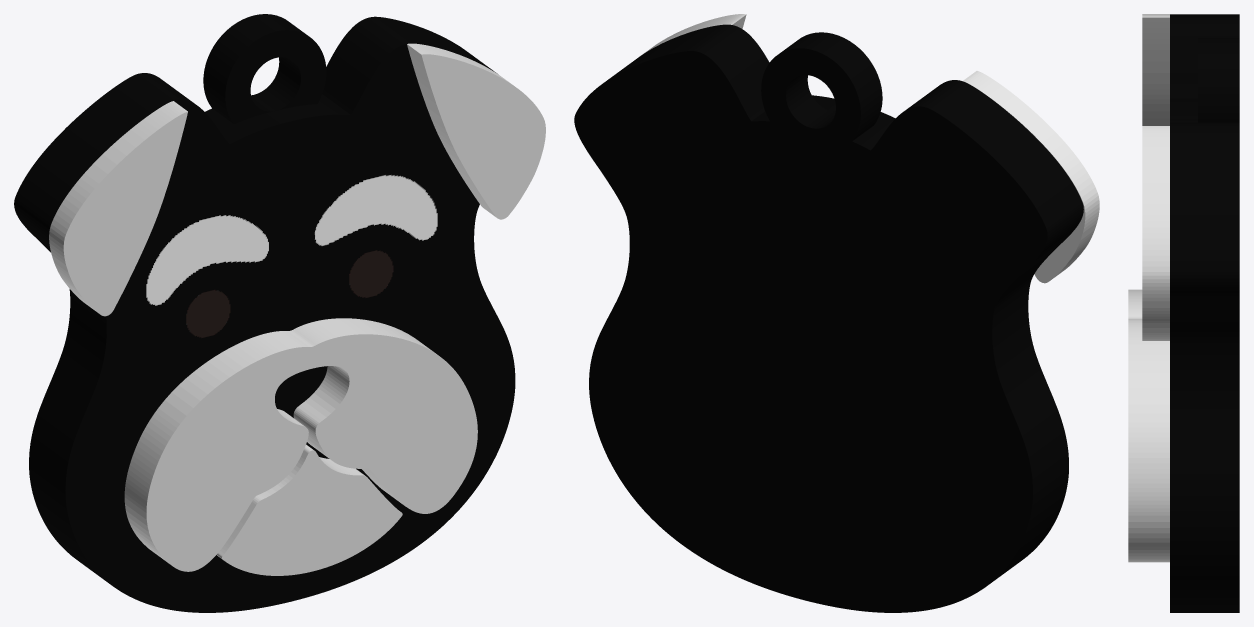
File: shuna_ALL_tx.glb
3 views of the same model, side by side, from view 1: azimuth 30°, elevation 25°; view 2: azimuth 150°, elevation 25°; view 3: azimuth 270°, elevation 25° (orthographic). The views are drawn at different scales.
Parts seen in each view (by area): view 1: face_base, nose, left_ear, mouth, right_ear; view 2: face_base, left_ear; view 3: face_base, nose, right_ear, left_ear.
Part boxes in pixels (x1=…): face_base: x1=14, y1=14, x2=515, y2=612; nose: x1=124, y1=318, x2=477, y2=571; left_ear: x1=49, y1=101, x2=187, y2=316; mouth: x1=216, y1=444, x2=402, y2=575; right_ear: x1=407, y1=43, x2=545, y2=219; face_base: x1=574, y1=24, x2=1083, y2=612; left_ear: x1=962, y1=71, x2=1099, y2=283; face_base: x1=1170, y1=14, x2=1239, y2=612; nose: x1=1128, y1=289, x2=1169, y2=562; right_ear: x1=1142, y1=126, x2=1169, y2=340; left_ear: x1=1142, y1=14, x2=1169, y2=125.
Bounding box in the file's own units: 38.12 × 42.28 × 8.
Materials: 2 (1 with a texture image).
